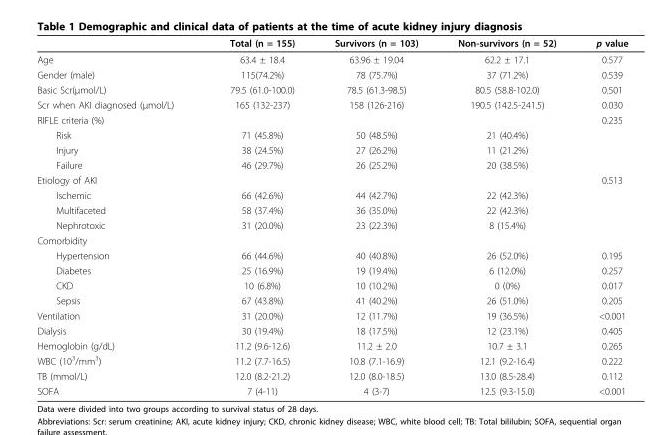table: (36, 36, 627, 396)
table column: (36, 36, 201, 396), (437, 36, 575, 396), (314, 36, 437, 396), (201, 36, 314, 396), (575, 36, 627, 396)
table column header: (36, 36, 627, 50)
table projected row header: (36, 232, 627, 247)
table row: (36, 50, 627, 66), (36, 96, 627, 112), (36, 352, 627, 368), (36, 66, 627, 81), (36, 81, 627, 96), (36, 112, 627, 127), (36, 127, 627, 142), (36, 142, 627, 157), (36, 157, 627, 172), (36, 172, 627, 187), (36, 187, 627, 202), (36, 202, 627, 217), (36, 217, 627, 232), (36, 232, 627, 247), (36, 247, 627, 262), (36, 262, 627, 277), (36, 277, 627, 292), (36, 292, 627, 307), (36, 307, 627, 322), (36, 322, 627, 337), (36, 337, 627, 352), (36, 368, 627, 383), (36, 36, 627, 50), (36, 383, 627, 396)
